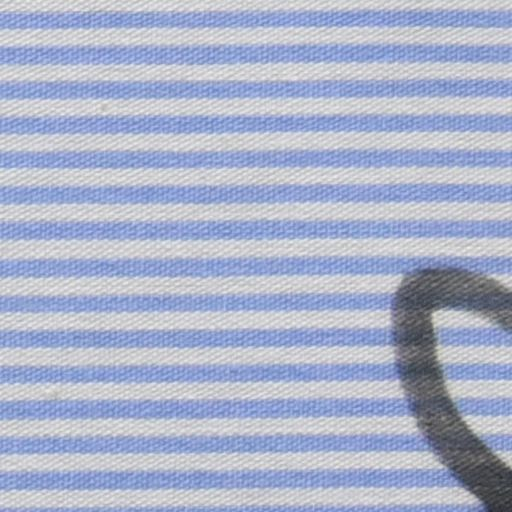defect: (395, 265, 512, 512)
